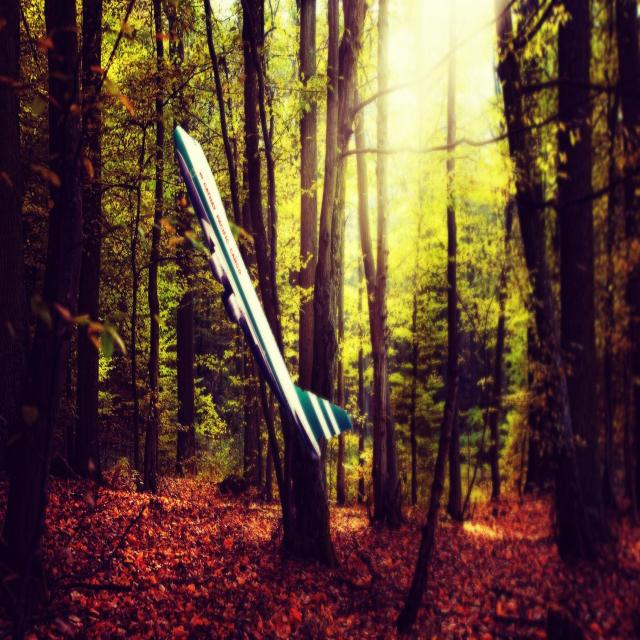airplane: (172, 123, 352, 462)
